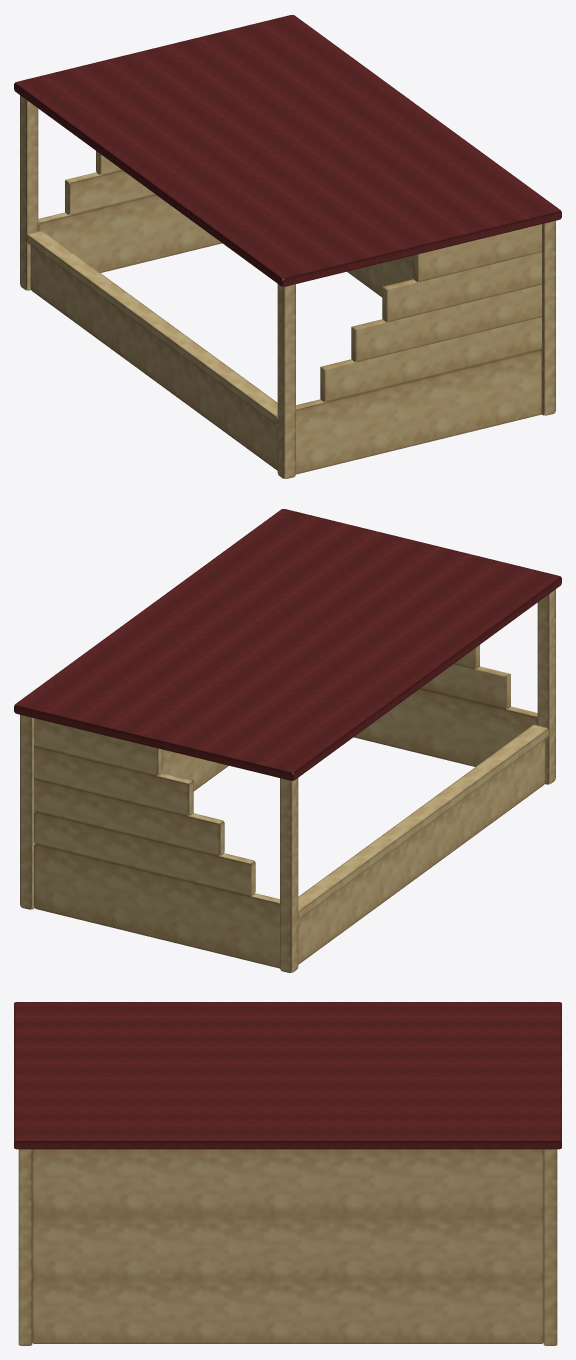
File: stand.fbx
3 renders of one model, top to bottom at view 1: azimuth 30°, elevation 25°; view 2: azimuth 150°, elevation 25°; view 3: azimuth 270°, elevation 25°, orthographic.
Visible parts, largest first — view 1: cube_1, cube_3, cube, cube_4, cube_2; view 2: cube_1, cube_4, cube, cube_3, cube_2; view 3: cube_2, cube_1.
Boxes of the visible parts, x1,y1,x2,y2 form: cube_1: (14,15,561,286); cube_3: (296,224,541,474); cube: (20,95,295,478); cube_4: (38,151,221,272); cube_2: (347,220,555,415); cube_1: (14,509,561,780); cube_4: (34,718,279,968); cube: (280,589,555,972); cube_3: (354,645,537,766); cube_2: (20,714,228,909); cube_2: (18,1149,557,1345); cube_1: (14,1002,561,1149).
Bounding box in the file's own units: 450 × 312 × 750.
